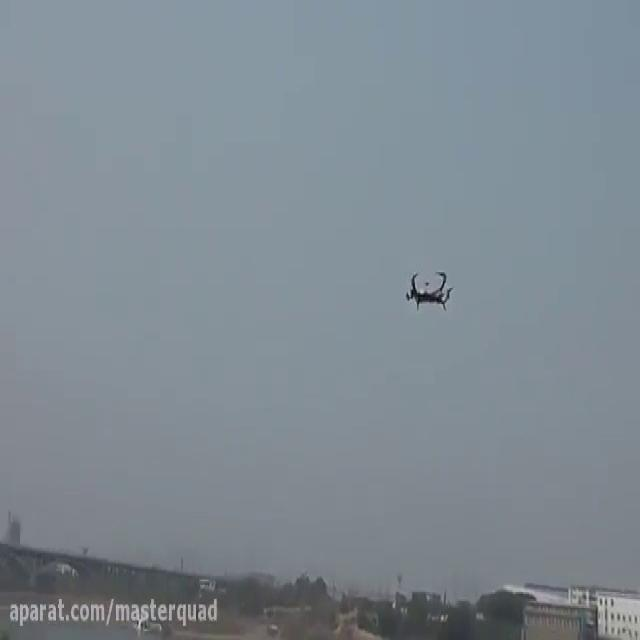drone: (402, 263, 455, 315)
